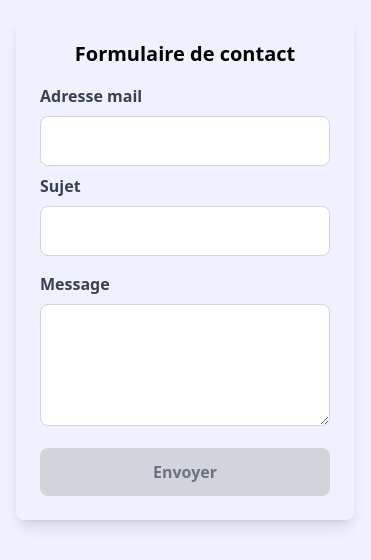
Test: ContactForm › affiche un message d'erreur si l'adresse e-mail est invalide
Type "not-an-email" into the field labelled "Adresse mail" at (185, 141), box [40,116,330,166]
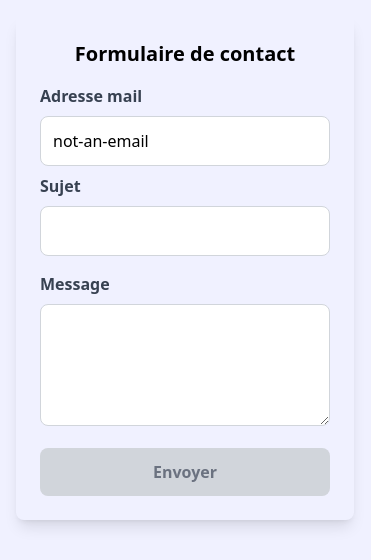
Type "Question" into the field labelled "Sujet" at (185, 231), box [40,206,330,256]
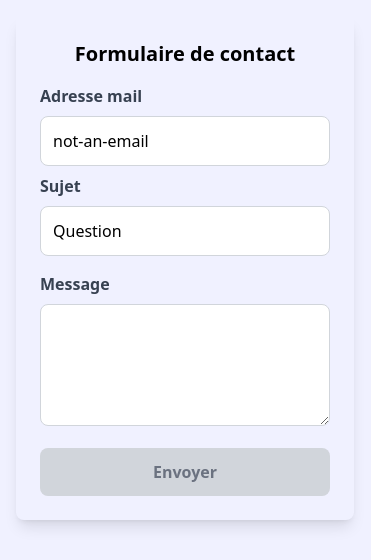
Type "Bonjour" into the text box labelled "Message" at (185, 365), box [40,304,330,426]
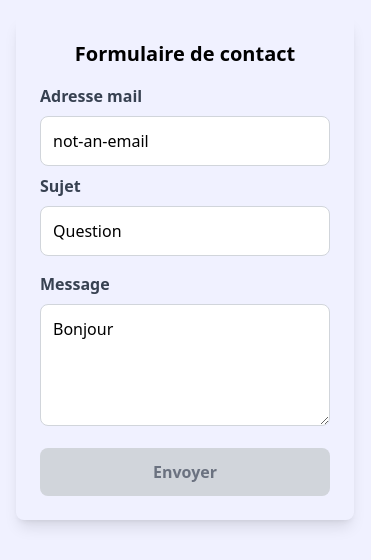
Submit the text "Formulaire de contact Adresse mail Sujet Message Envoyer"
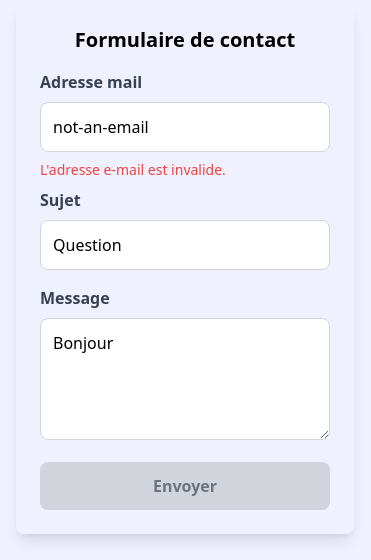
expect the text "L'adresse e-mail est invalide." is shown: met, box [40,160,226,179]
